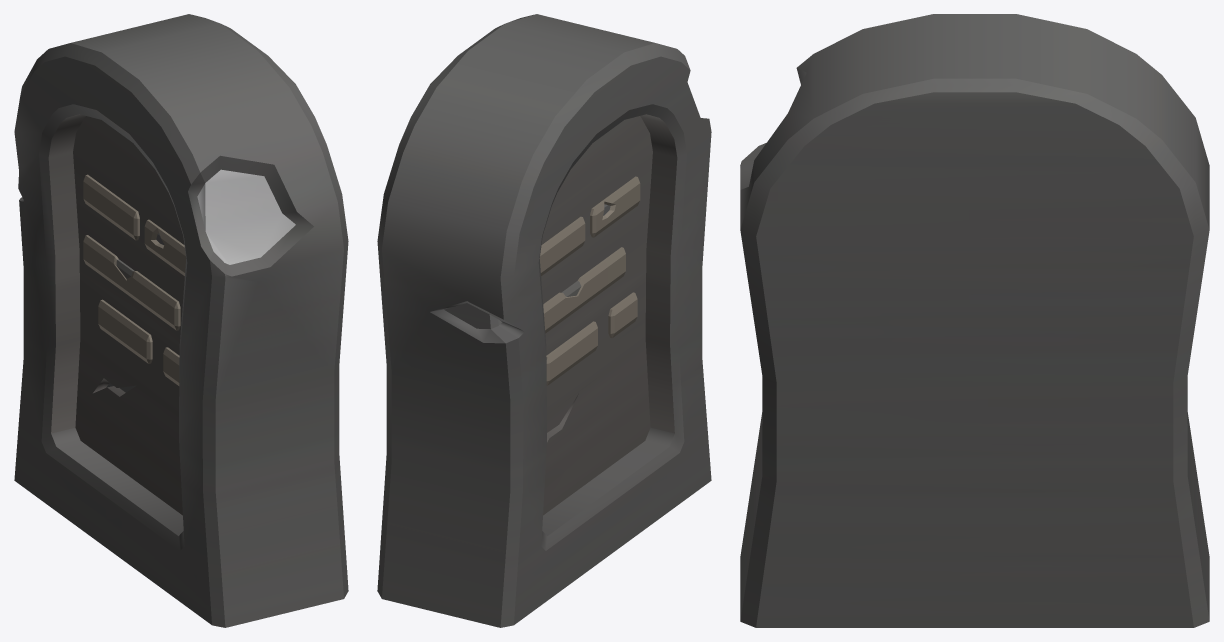
Rendered from Tombstone_2.obj.
3 renders of one model, left to right at view 1: azimuth 30°, elevation 25°; view 2: azimuth 150°, elevation 25°; view 3: azimuth 270°, elevation 25°, orthographic. The views are drawn at different scales.
Parts seen in each view (by area): view 1: Tombstone_2; view 2: Tombstone_2; view 3: Tombstone_2.
Boxes of the visible parts, <box> form: Tombstone_2: <box>14,14,348,627</box>; Tombstone_2: <box>377,14,711,627</box>; Tombstone_2: <box>740,14,1209,627</box>.
Bounding box in the file's own units: 0.2612 × 0.8799 × 0.6893.
